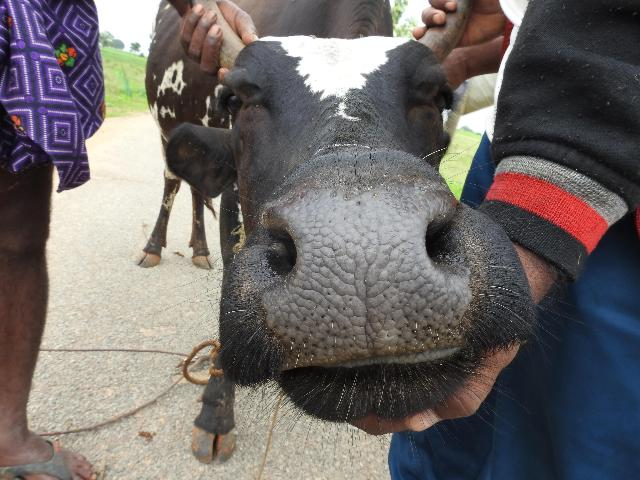Muzzle: (257, 196, 468, 364)
